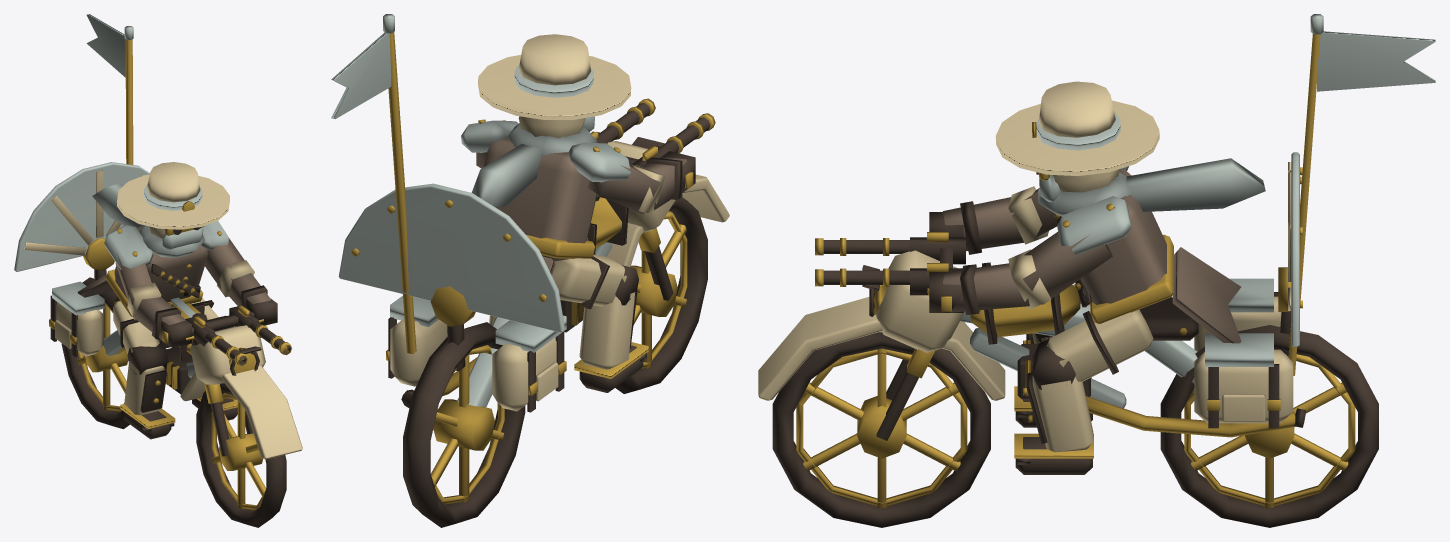
The model's file is rider.glb.
The picture shows the model from 3 angles, left to right: view 1: azimuth 30°, elevation 25°; view 2: azimuth 150°, elevation 25°; view 3: azimuth 270°, elevation 25°; orthographic projection. The views are drawn at different scales.
Visible parts, largest first — view 1: Team_details, Sail, Tyres, Suit_details, Undercarriage_details, Fairing, Hazard_details, Hat_brim, Spokes, Fairing_cowl, Hat_crown, Spokes_hub (+10 smaller); view 2: Sail, Team_details, Tyres, Suit_details, Hazard_details, Hat_brim, Spokes, Panniers, Undercarriage_details, Spokes_hub, Shin, Hat_crown (+11 smaller); view 3: Team_details, Tyres, Suit_details, Spokes, Hazard_details, Undercarriage_details, Fairing, Hat_brim, Panniers, Fairing_cowl, Thigh.001, Hat_crown (+11 smaller).
Boxes of the visible parts, <box> form: Team_details: <box>52,14,229,378</box>; Sail: <box>14,162,149,271</box>; Tyres: <box>61,277,286,527</box>; Suit_details: <box>77,226,270,339</box>; Undercarriage_details: <box>50,227,277,456</box>; Fairing: <box>180,365,302,459</box>; Hazard_details: <box>49,39,263,403</box>; Hat_brim: <box>117,174,229,229</box>; Spokes: <box>77,303,266,510</box>; Fairing_cowl: <box>190,325,265,384</box>; Hat_crown: <box>146,162,200,202</box>; Spokes_hub: <box>85,338,262,470</box>; Sail: <box>338,183,564,332</box>; Team_details: <box>331,14,630,407</box>; Tyres: <box>403,197,707,527</box>; Suit_details: <box>476,137,686,275</box>; Hazard_details: <box>351,32,693,396</box>; Hat_brim: <box>478,55,631,119</box>; Spokes: <box>430,211,687,504</box>; Panniers: <box>390,318,556,411</box>; Undercarriage_details: <box>388,137,695,412</box>; Spokes_hub: <box>433,265,677,450</box>; Shin: <box>579,292,635,369</box>; Hat_crown: <box>518,34,591,85</box>; Team_details: <box>960,14,1435,408</box>; Tyres: <box>772,325,1378,527</box>; Suit_details: <box>943,169,1241,343</box>; Spokes: <box>796,348,1355,507</box>; Hazard_details: <box>873,34,1320,437</box>; Undercarriage_details: <box>862,172,1305,440</box>; Fairing: <box>758,297,1005,400</box>; Hat_brim: <box>995,100,1159,175</box>; Panniers: <box>1194,296,1293,423</box>; Fairing_cowl: <box>876,250,964,352</box>; Thigh.001: <box>1046,309,1153,382</box>; Hat_crown: <box>1038,81,1115,137</box>.
Bounding box in the file's own units: 1.28 × 2.76 × 3.14.
